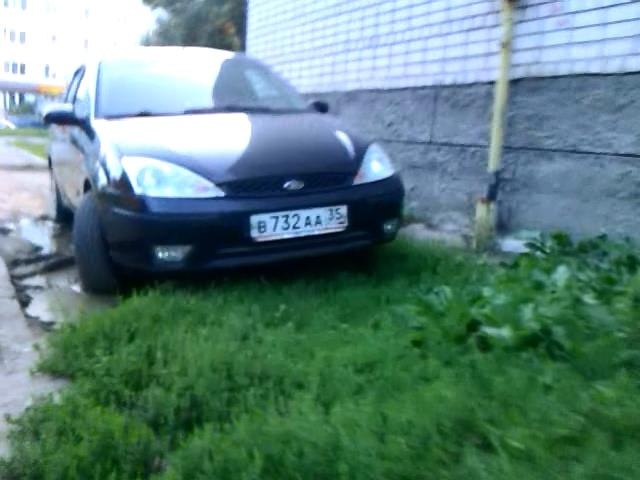car license plate: (248, 202, 351, 244)
